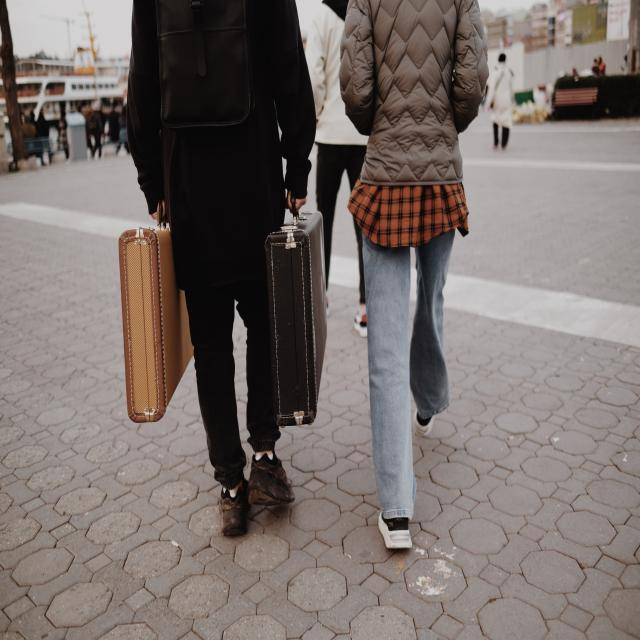backpack: (156, 0, 260, 126)
